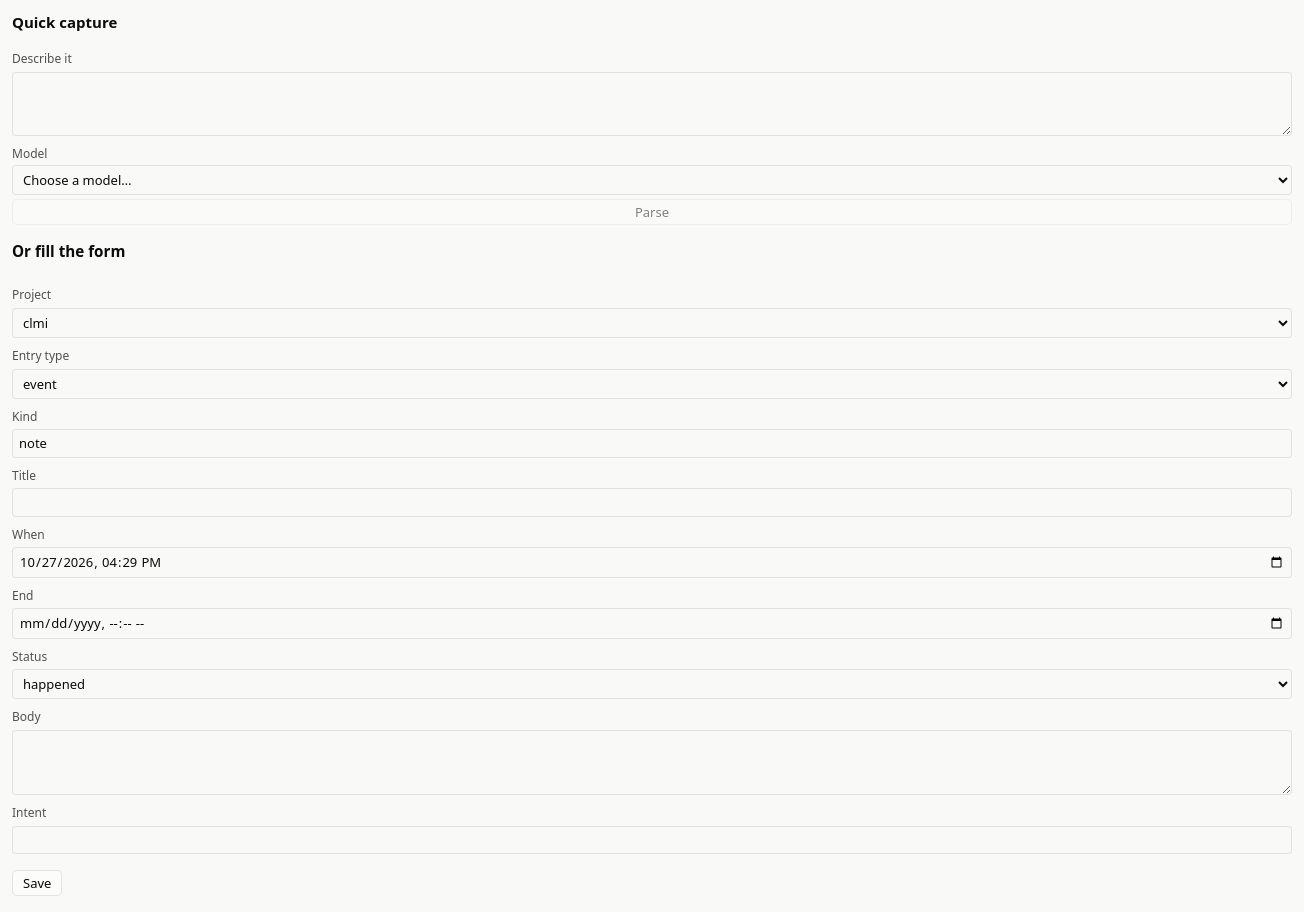
it: QuickCapture › parses free text into proposals
This screenshot has width=1304, height=912.
In the text box labelled "Describe it": (652, 104) [12,72,1292,136], type "email bob tomorrow"
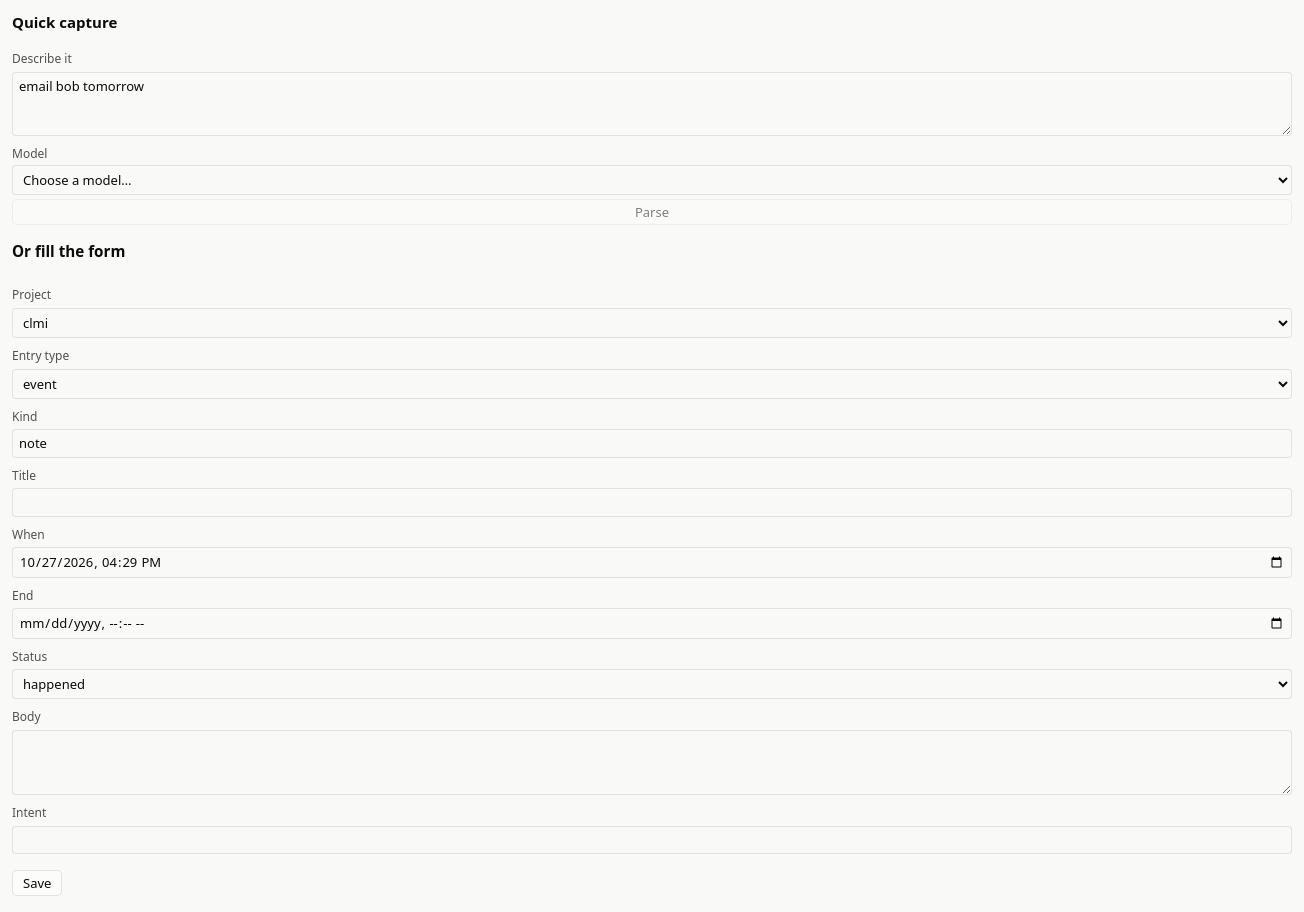
Expected: the button "Parse" is disabled, [12,199,1292,225]
Select "claude-fable-5-1" in the dropdown labelled "Model": (652, 180) [12,165,1292,195]
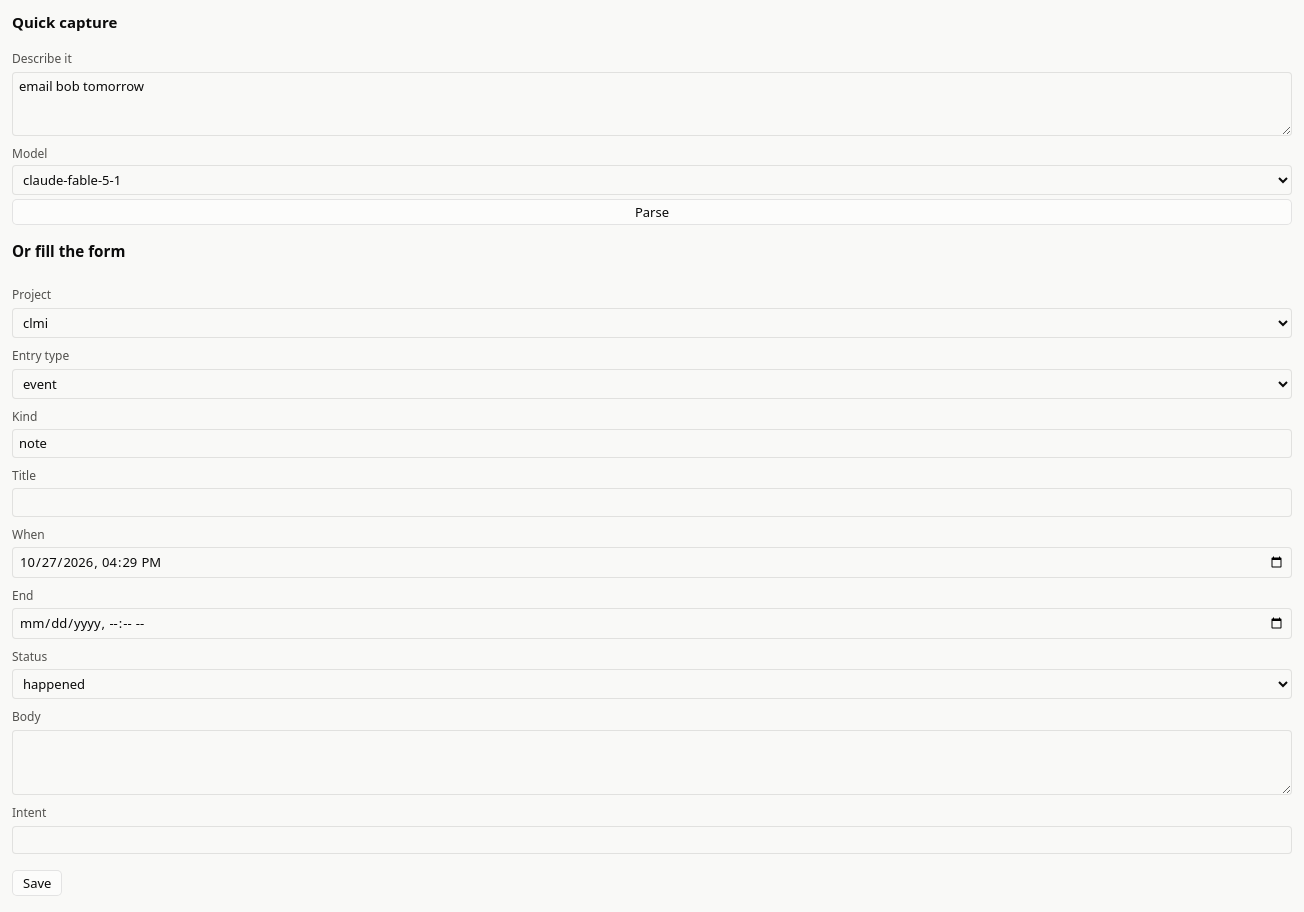
Click the button "Parse": (652, 212) [12,199,1292,225]
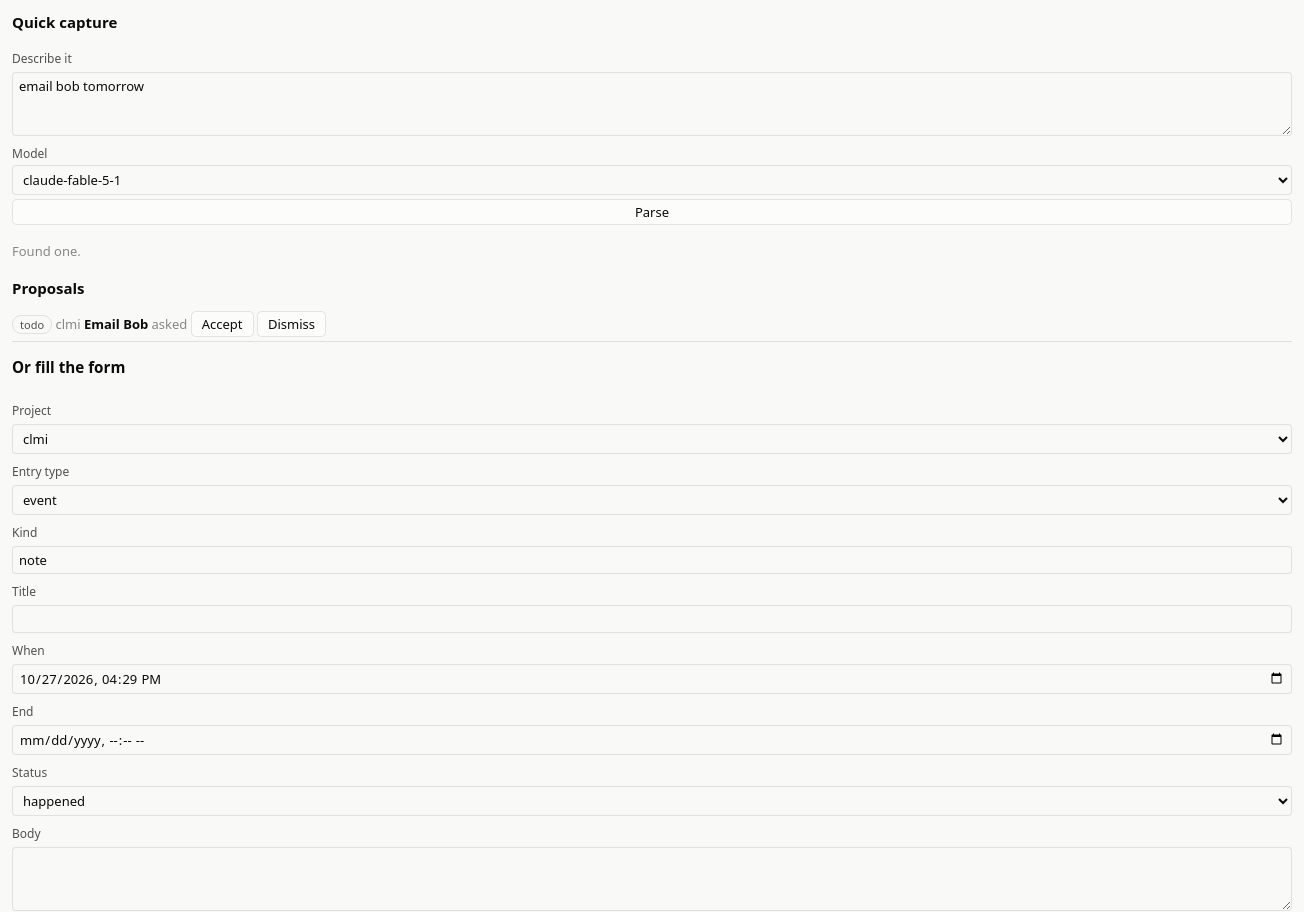
Now the text "Email Bob" is shown, box [84,314,148,332]
Now the button "Accept" is shown, box [191,310,254,337]
